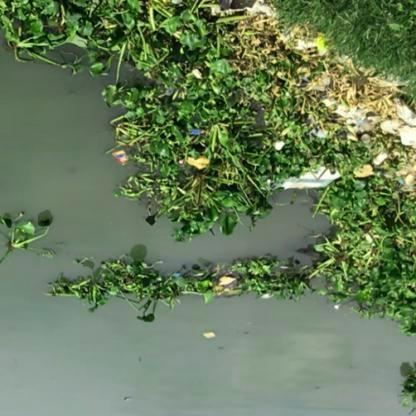Trash: (280, 169, 344, 194), (107, 146, 138, 168)
